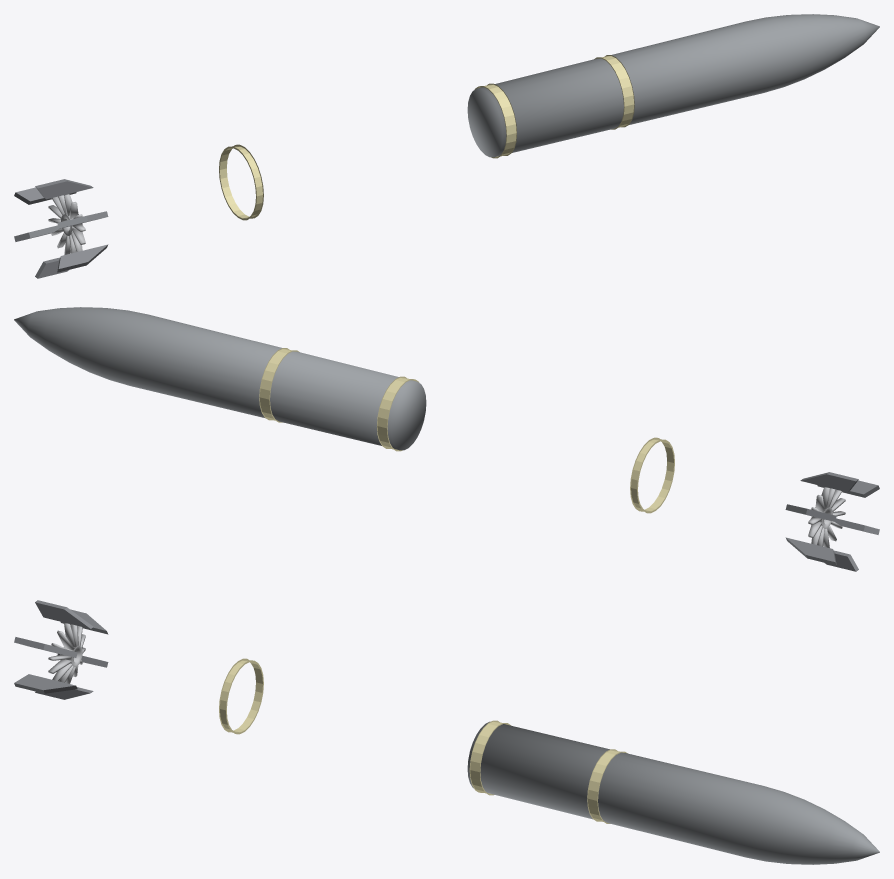
File: RU_TORP_SAET60_LOD1.fbx
3 views of the same model, one above another, from view 1: azimuth 30°, elevation 25°; view 2: azimuth 150°, elevation 25°; view 3: azimuth 330°, elevation 25° (orthographic).
Parts seen in each view (by area): view 1: WPN_RU_TORP_SAET60_LOD1_Body, WPN_RU_TORP_SAET60_LOD1_Marking, WPN_RU_TORP_SAET60_LOD1_Fins, WPN_RU_TORP_SAET60_LOD1_Propulsor; view 2: WPN_RU_TORP_SAET60_LOD1_Body, WPN_RU_TORP_SAET60_LOD1_Marking, WPN_RU_TORP_SAET60_LOD1_Fins, WPN_RU_TORP_SAET60_LOD1_Propulsor; view 3: WPN_RU_TORP_SAET60_LOD1_Body, WPN_RU_TORP_SAET60_LOD1_Marking, WPN_RU_TORP_SAET60_LOD1_Fins, WPN_RU_TORP_SAET60_LOD1_Propulsor.
Boxes of the visible parts, box(x1,y1,x2,y2) form: WPN_RU_TORP_SAET60_LOD1_Body: box(467, 14, 879, 157); WPN_RU_TORP_SAET60_LOD1_Marking: box(219, 55, 634, 220); WPN_RU_TORP_SAET60_LOD1_Fins: box(14, 179, 108, 278); WPN_RU_TORP_SAET60_LOD1_Propulsor: box(48, 194, 85, 254); WPN_RU_TORP_SAET60_LOD1_Body: box(14, 307, 426, 450); WPN_RU_TORP_SAET60_LOD1_Marking: box(259, 348, 674, 513); WPN_RU_TORP_SAET60_LOD1_Fins: box(785, 472, 879, 571); WPN_RU_TORP_SAET60_LOD1_Propulsor: box(808, 487, 845, 547); WPN_RU_TORP_SAET60_LOD1_Body: box(467, 721, 879, 864); WPN_RU_TORP_SAET60_LOD1_Marking: box(219, 658, 627, 823); WPN_RU_TORP_SAET60_LOD1_Fins: box(14, 600, 108, 699); WPN_RU_TORP_SAET60_LOD1_Propulsor: box(48, 623, 85, 683).
Size of the model in its own units: 7.03 by 0.6447 by 0.7199.
